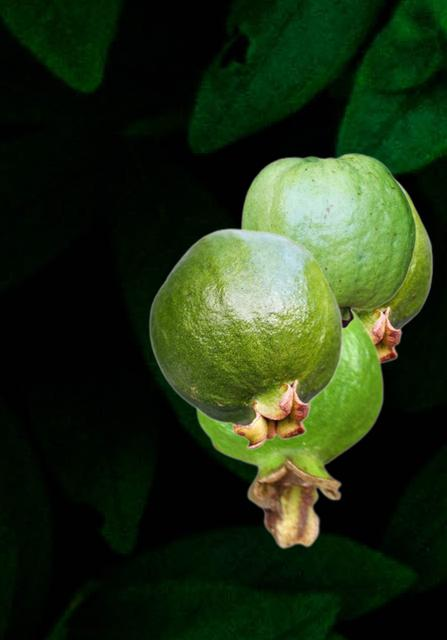guava: (195, 310, 383, 548), (148, 228, 342, 449), (240, 153, 416, 329), (356, 180, 432, 365)
